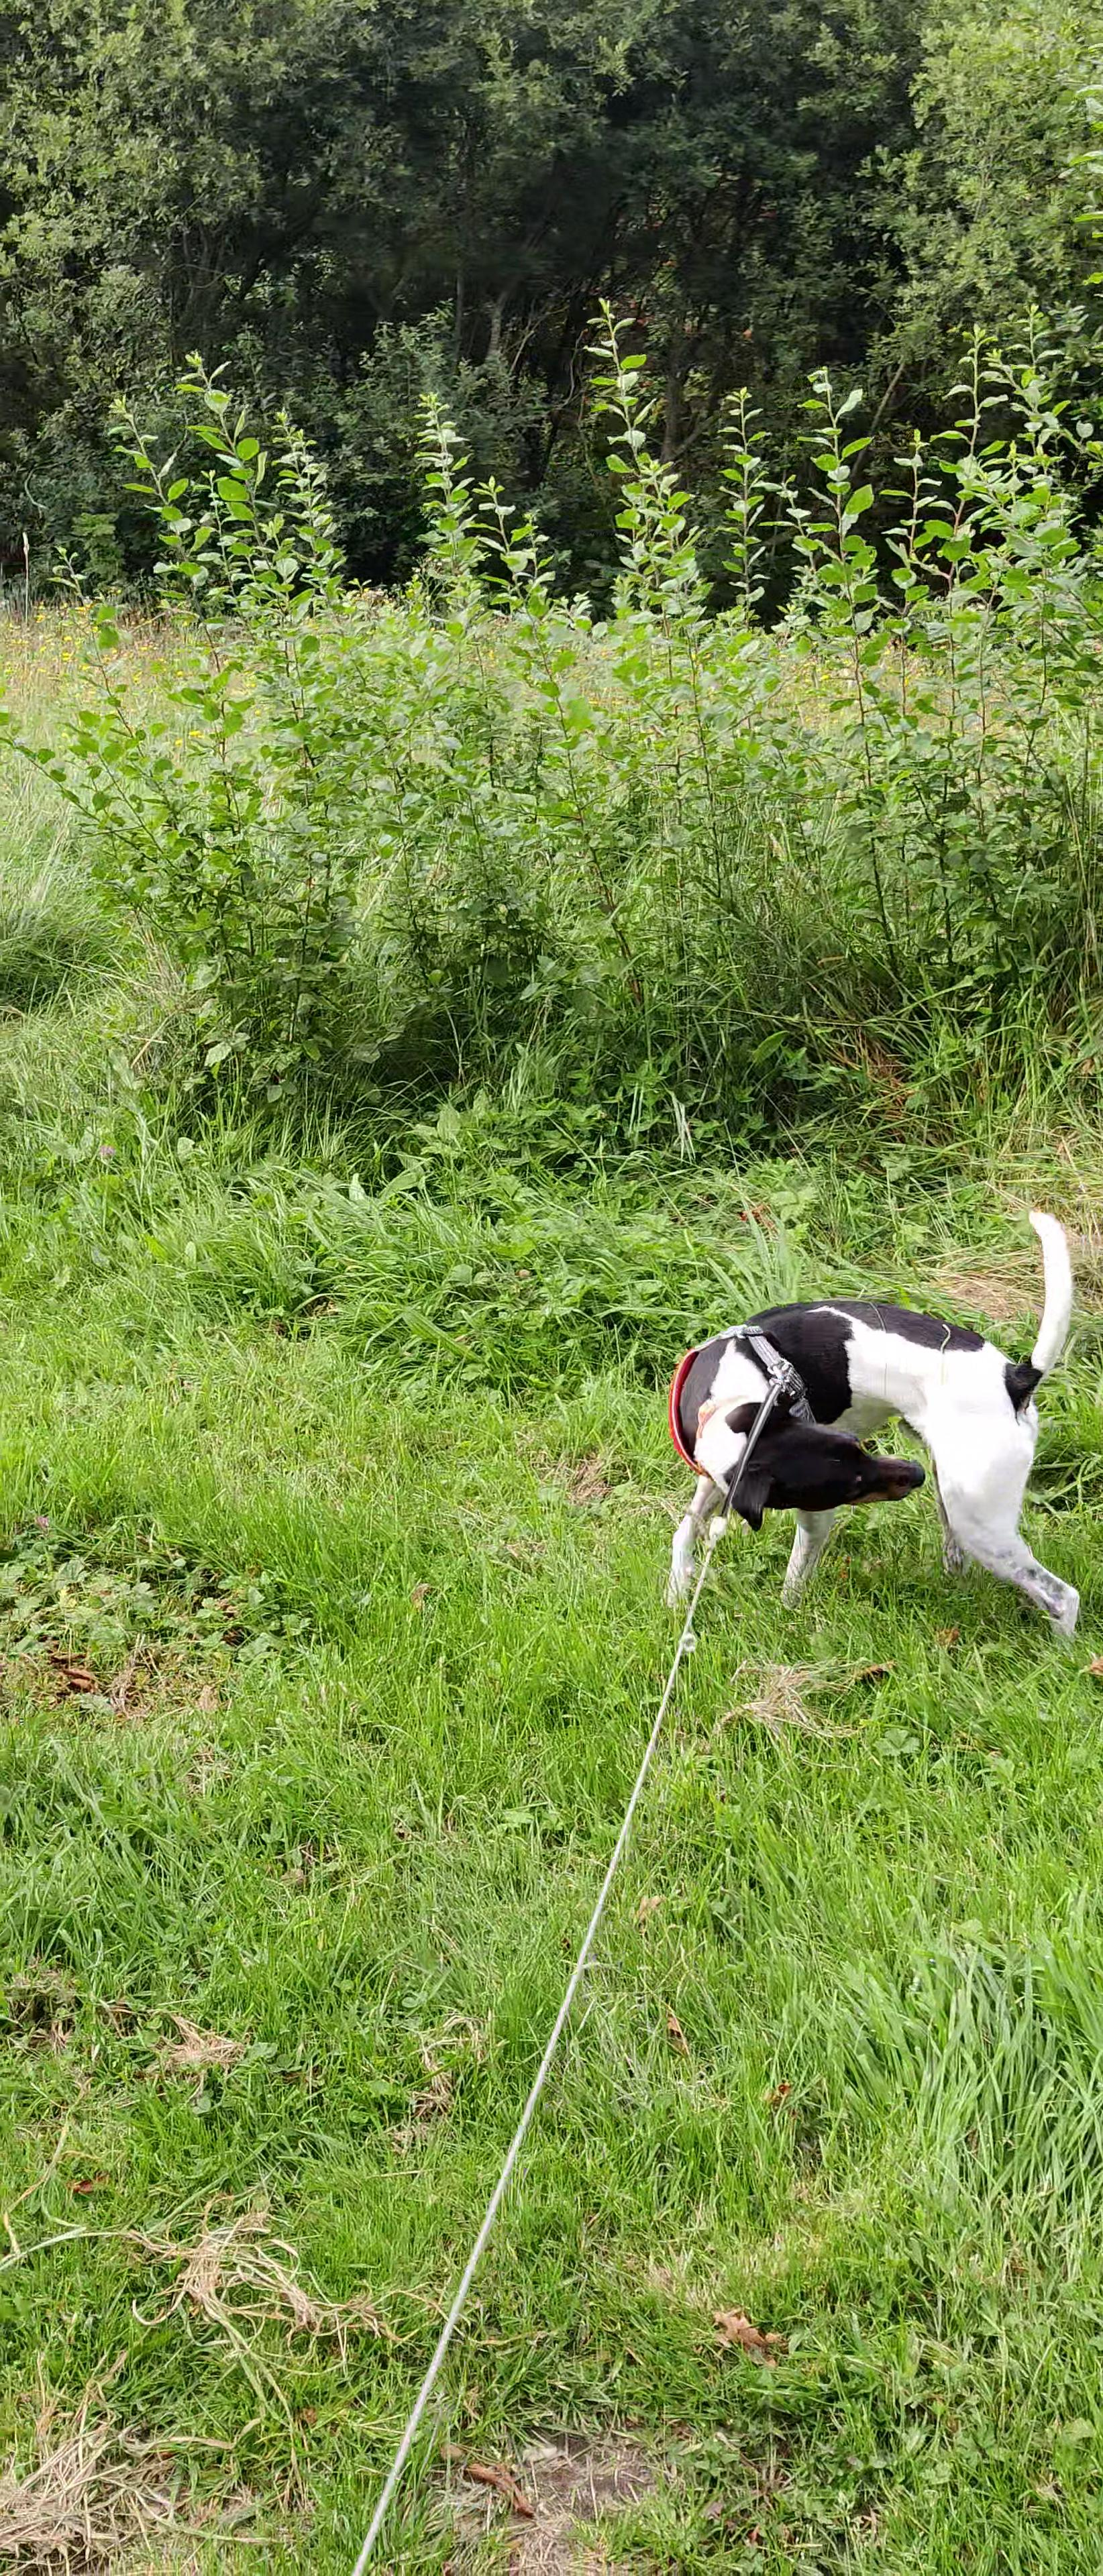Dog: (654, 1203, 1103, 1646)
